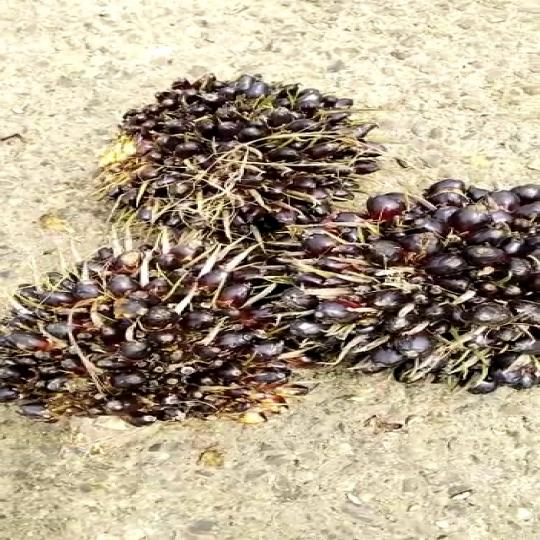mentah: (0, 240, 358, 461), (252, 174, 540, 408), (101, 71, 390, 238)
